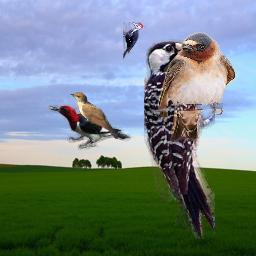Cuckoo: (70, 92, 118, 139)
Swallow: (158, 32, 235, 141)
Woodpecker: (144, 38, 215, 239), (46, 103, 131, 150), (123, 22, 146, 60)
